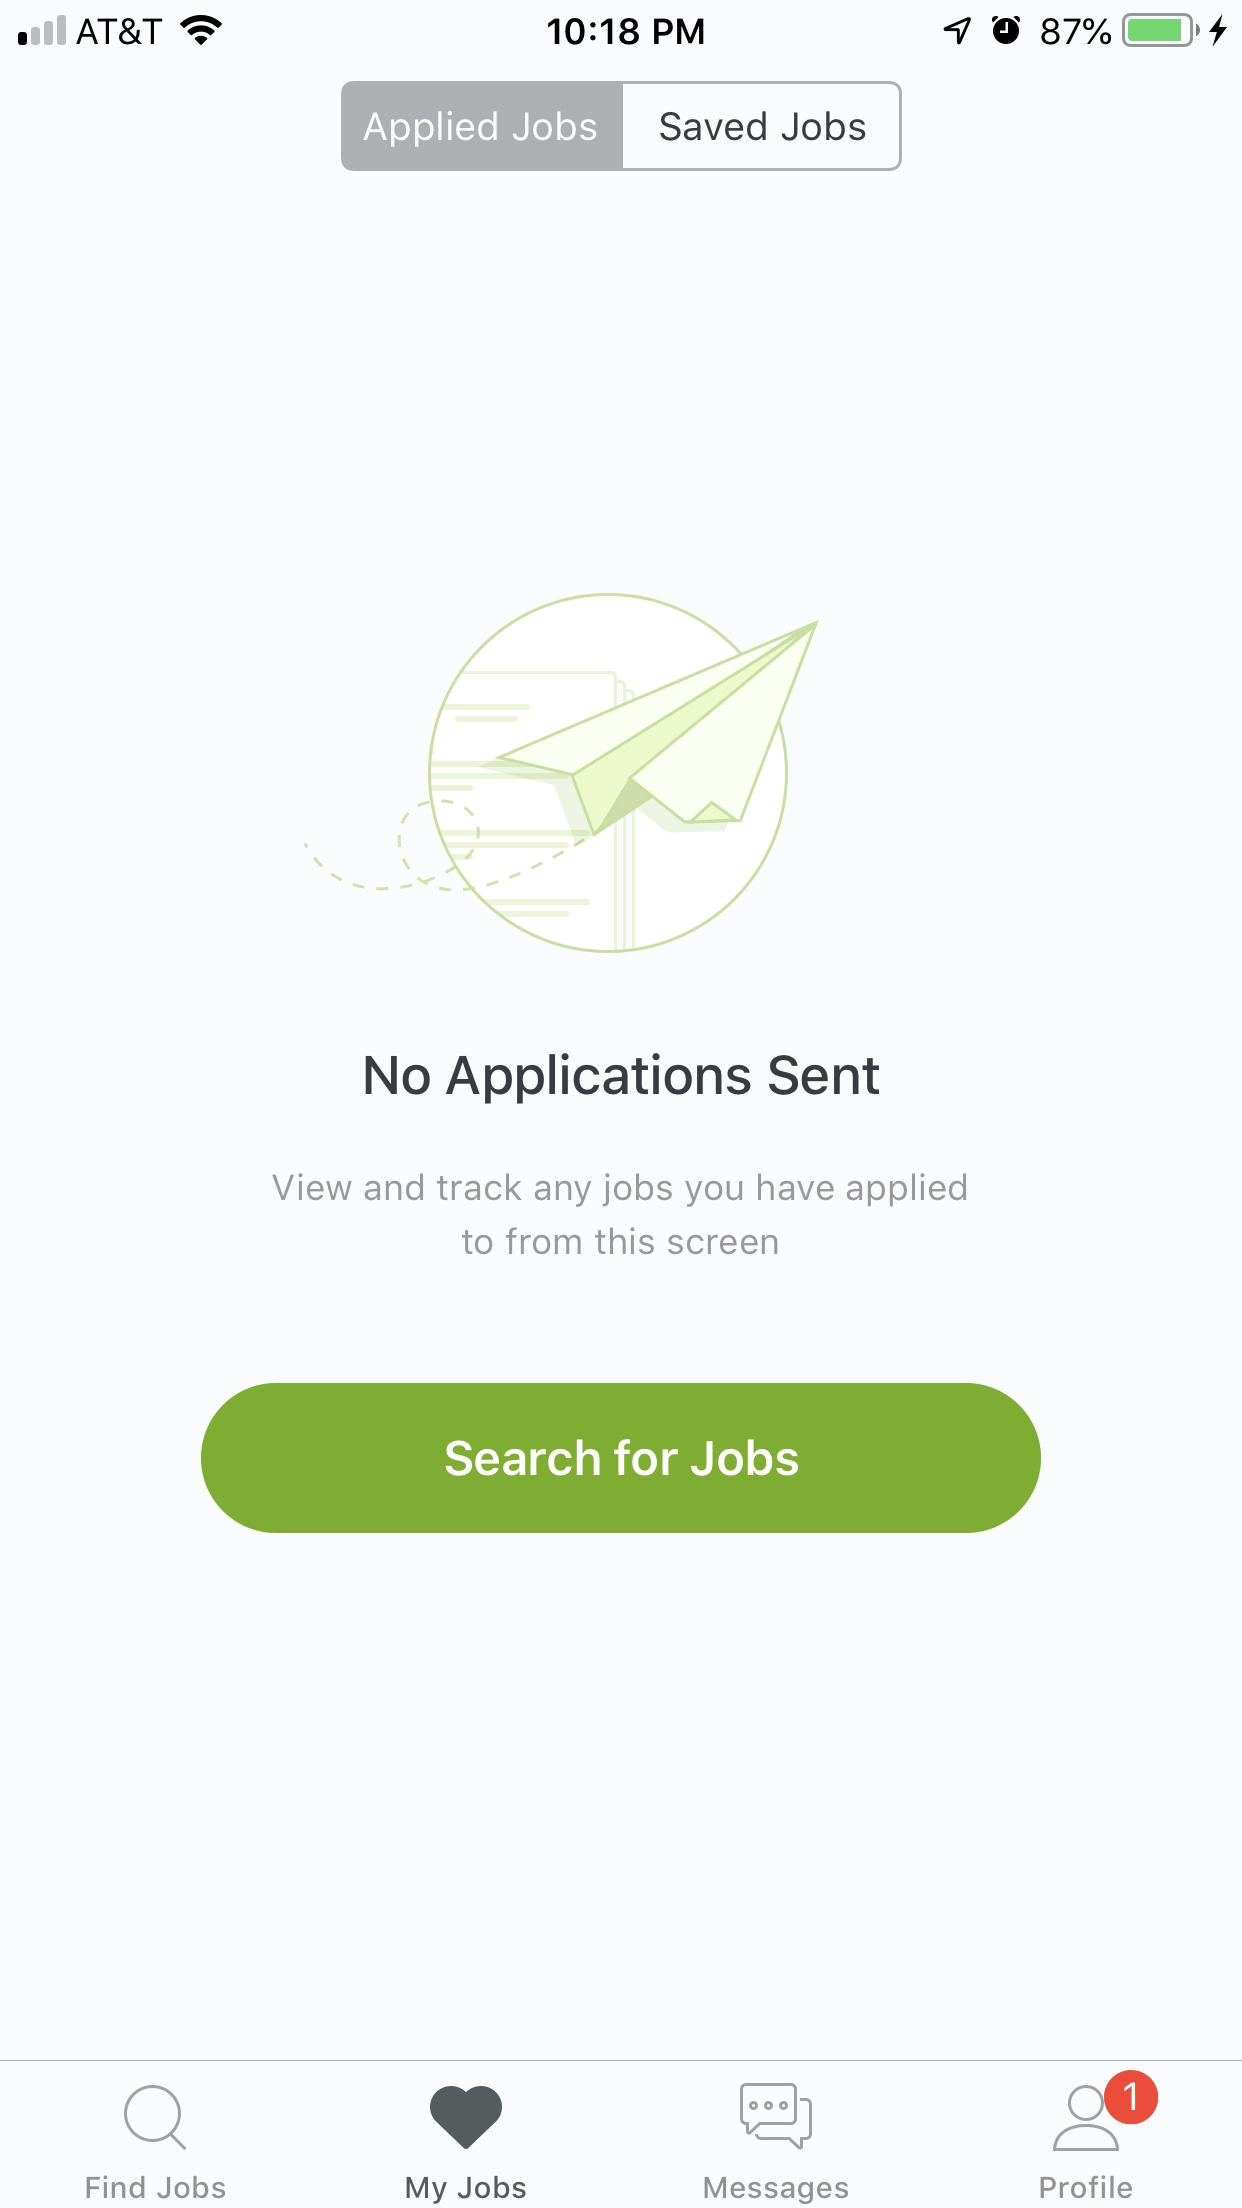Icon: (1052, 2070, 1159, 2152), (739, 2084, 813, 2150), (429, 2085, 503, 2150), (124, 2085, 188, 2150)
Image: (302, 591, 822, 955)
Text: (271, 1172, 968, 1256), (365, 1052, 881, 1106), (704, 2176, 849, 2205), (406, 2175, 528, 2205), (86, 2175, 227, 2200), (1040, 2175, 1133, 2199)
TextButton: (202, 1382, 1042, 1535), (341, 80, 623, 171), (623, 80, 902, 171)
UpperTaskBar: (15, 2, 1242, 49)
